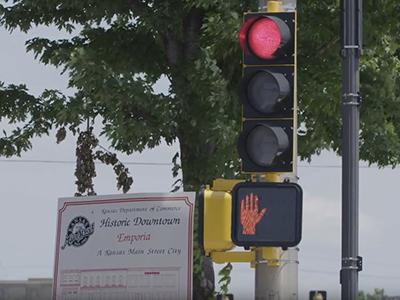trafficlight_red: (240, 18, 291, 170)
